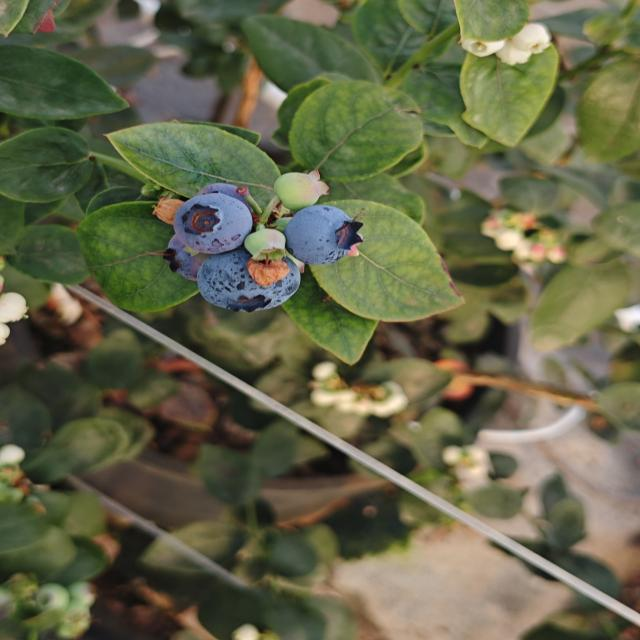ripe: (193, 241, 306, 312), (287, 198, 369, 259), (178, 199, 252, 256), (158, 232, 224, 284), (188, 177, 260, 219)
